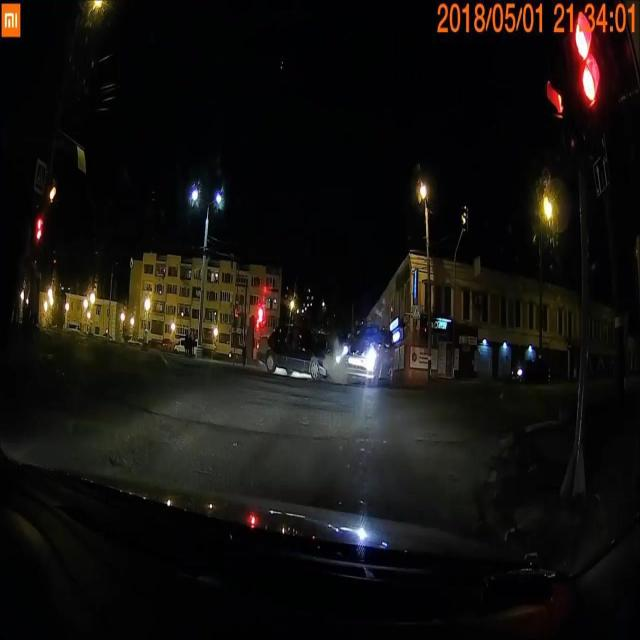moderate: (254, 316, 398, 391)
